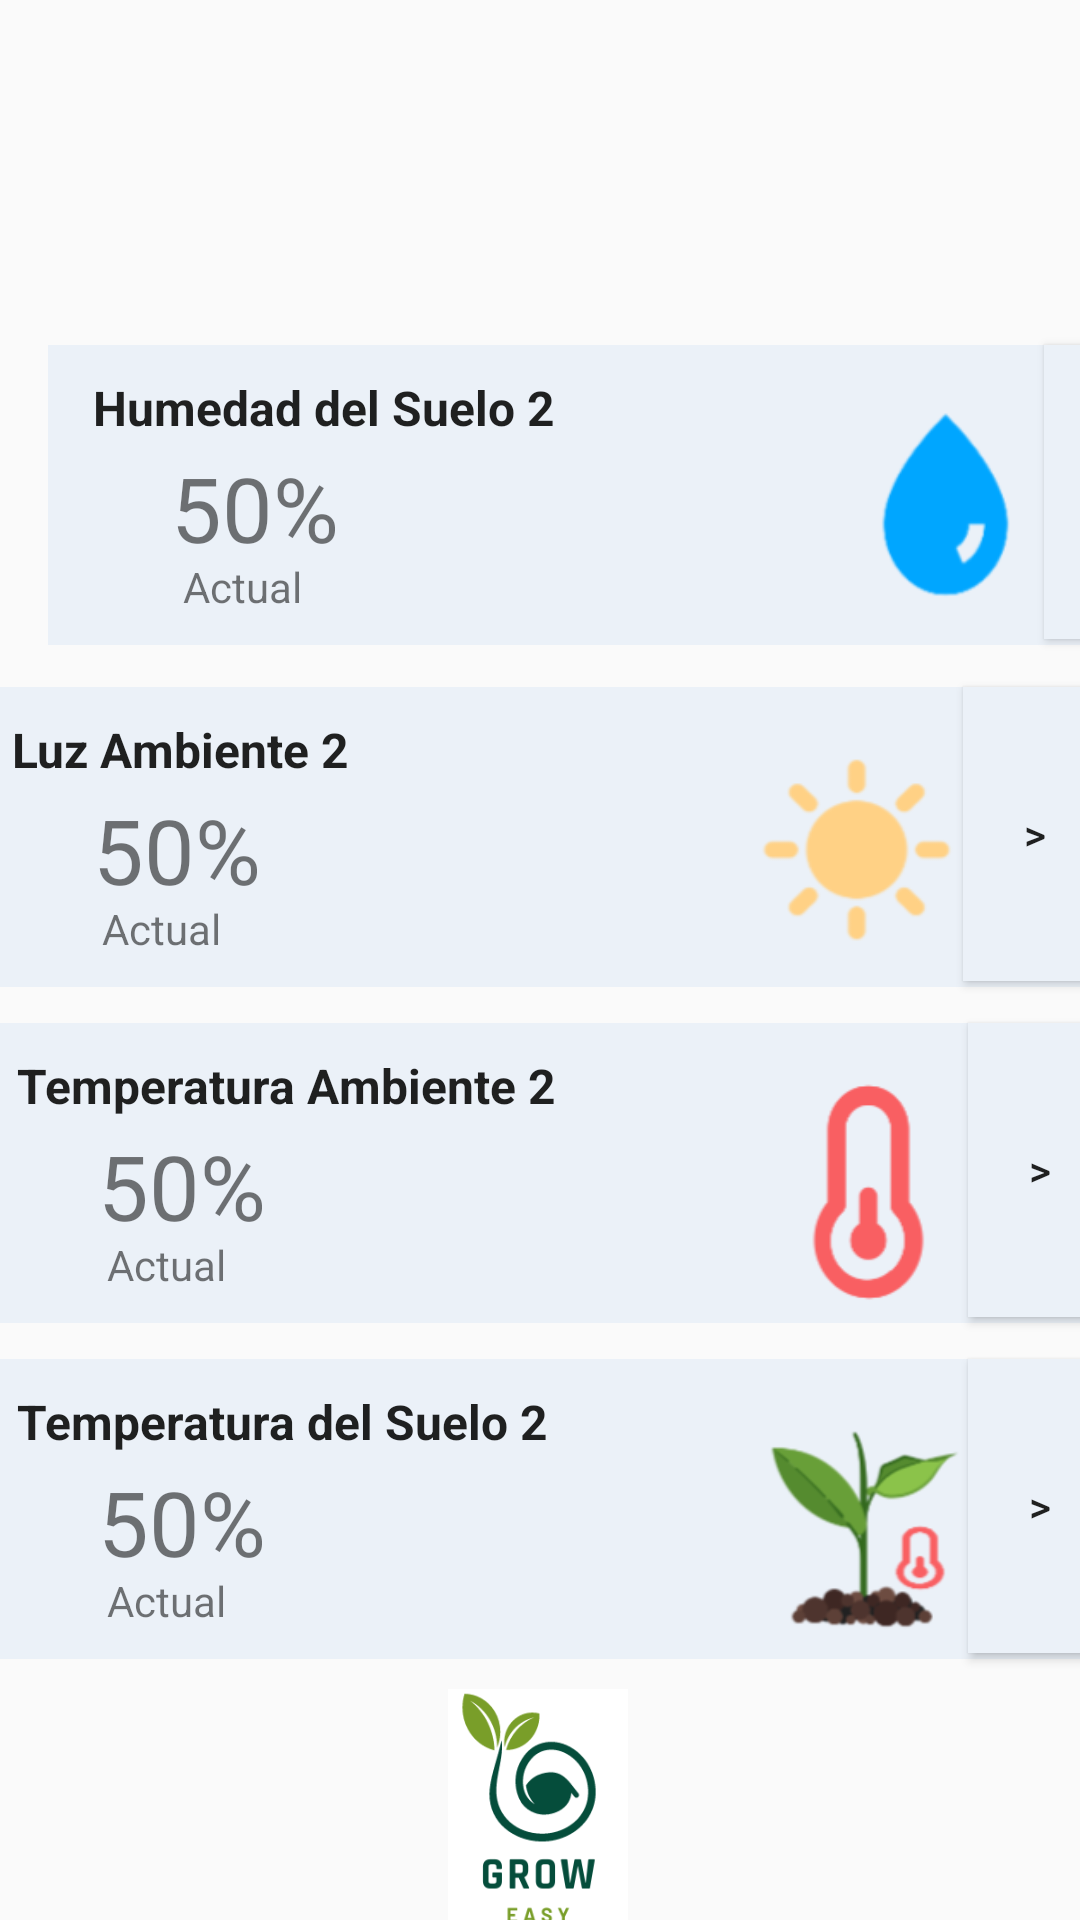

Locate icon controls on the screen. Image size 1080x1920, boxes as (x1, y1, x2, y2).
drop: (882, 413, 1009, 596)
soil temperature: (771, 1432, 957, 1627)
sun: (763, 759, 950, 940)
temperature: (813, 1085, 924, 1299)
